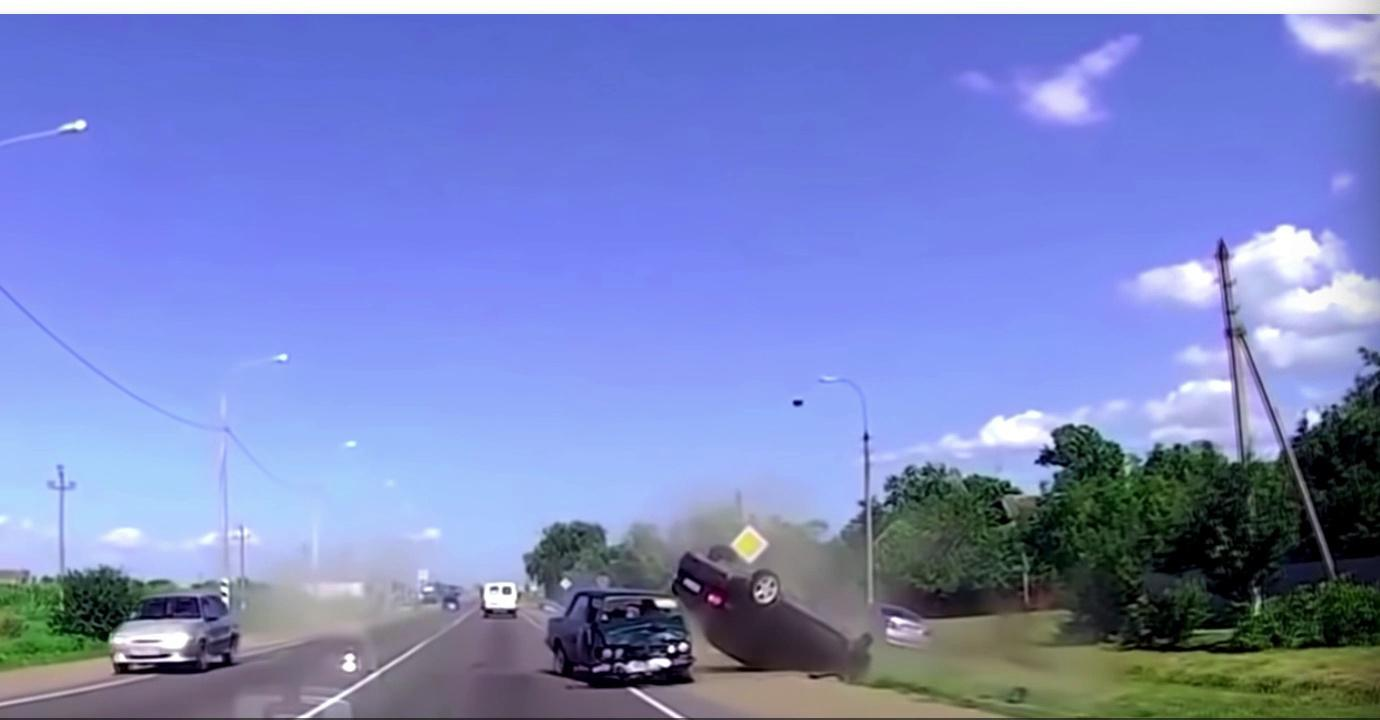car-accident: (546, 543, 873, 689)
